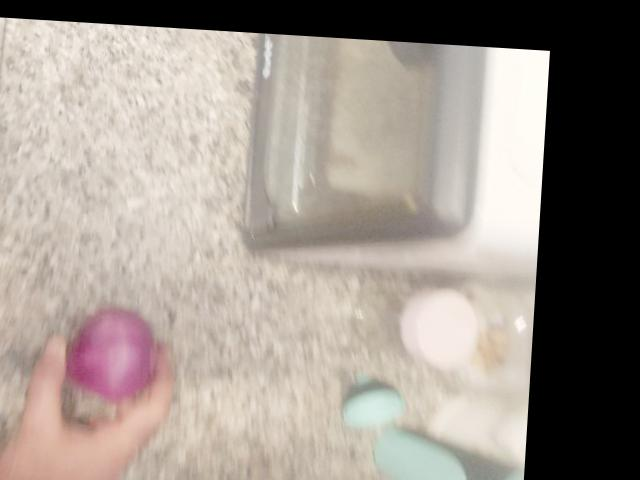onion: (156, 30, 257, 140)
